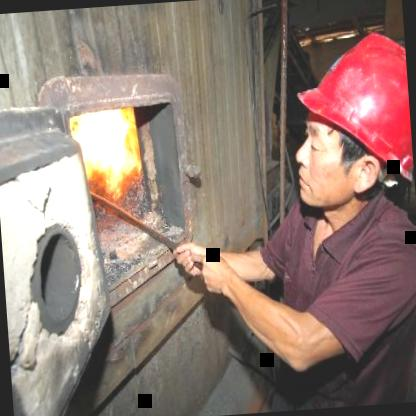helmet: (280, 19, 416, 230)
